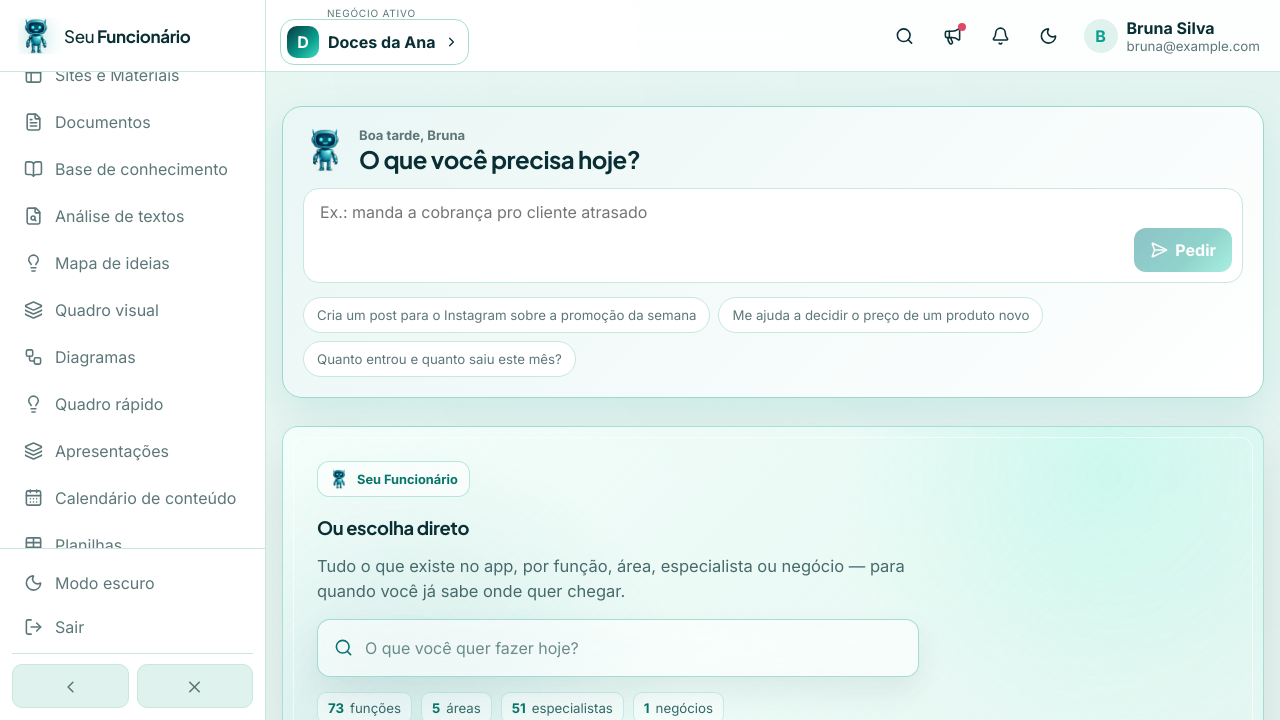
Test case: Quadro visual › cria um quadro a partir do modelo SWOT com as quatro áreas
(page scrolled)
Click the button "Quadro visual" at [132, 310], box top-left (12, 288), bottom-right (253, 332)
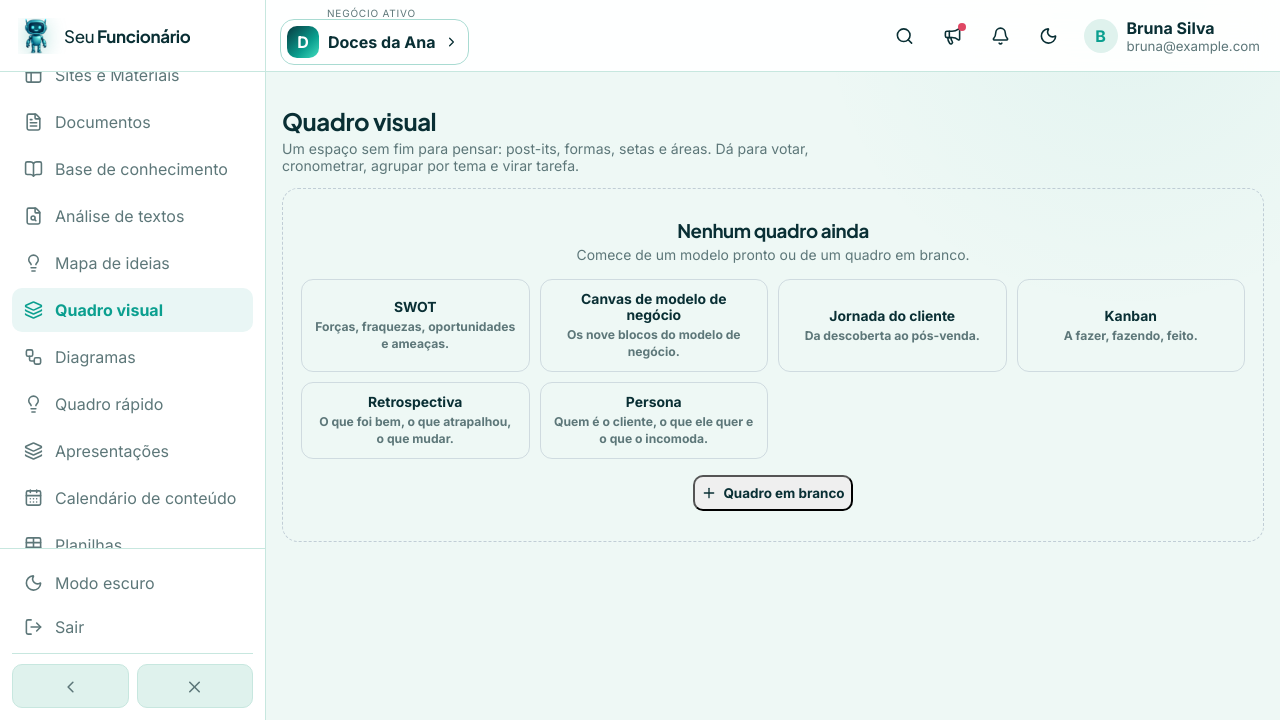
Expected: the element with class "cvs" is shown, top-left (282, 106), bottom-right (1264, 542)
Click the button "SWOT" at [415, 326], box top-left (301, 279), bottom-right (530, 372)
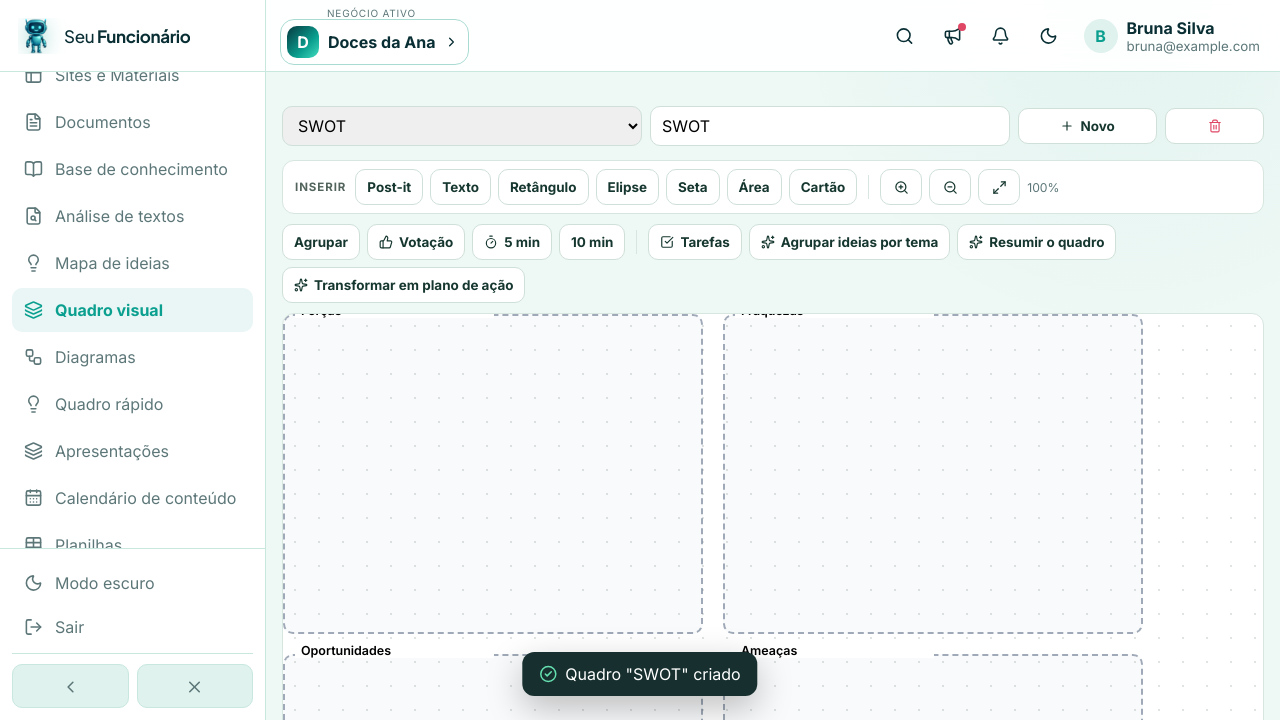
Expected: the field named "Nome do quadro" holds "SWOT", top-left (650, 106), bottom-right (1010, 146)
